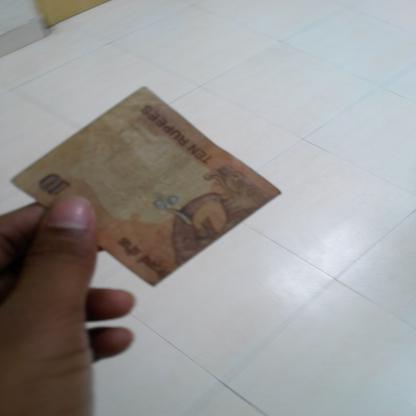Old10Back: (11, 87, 283, 288)
